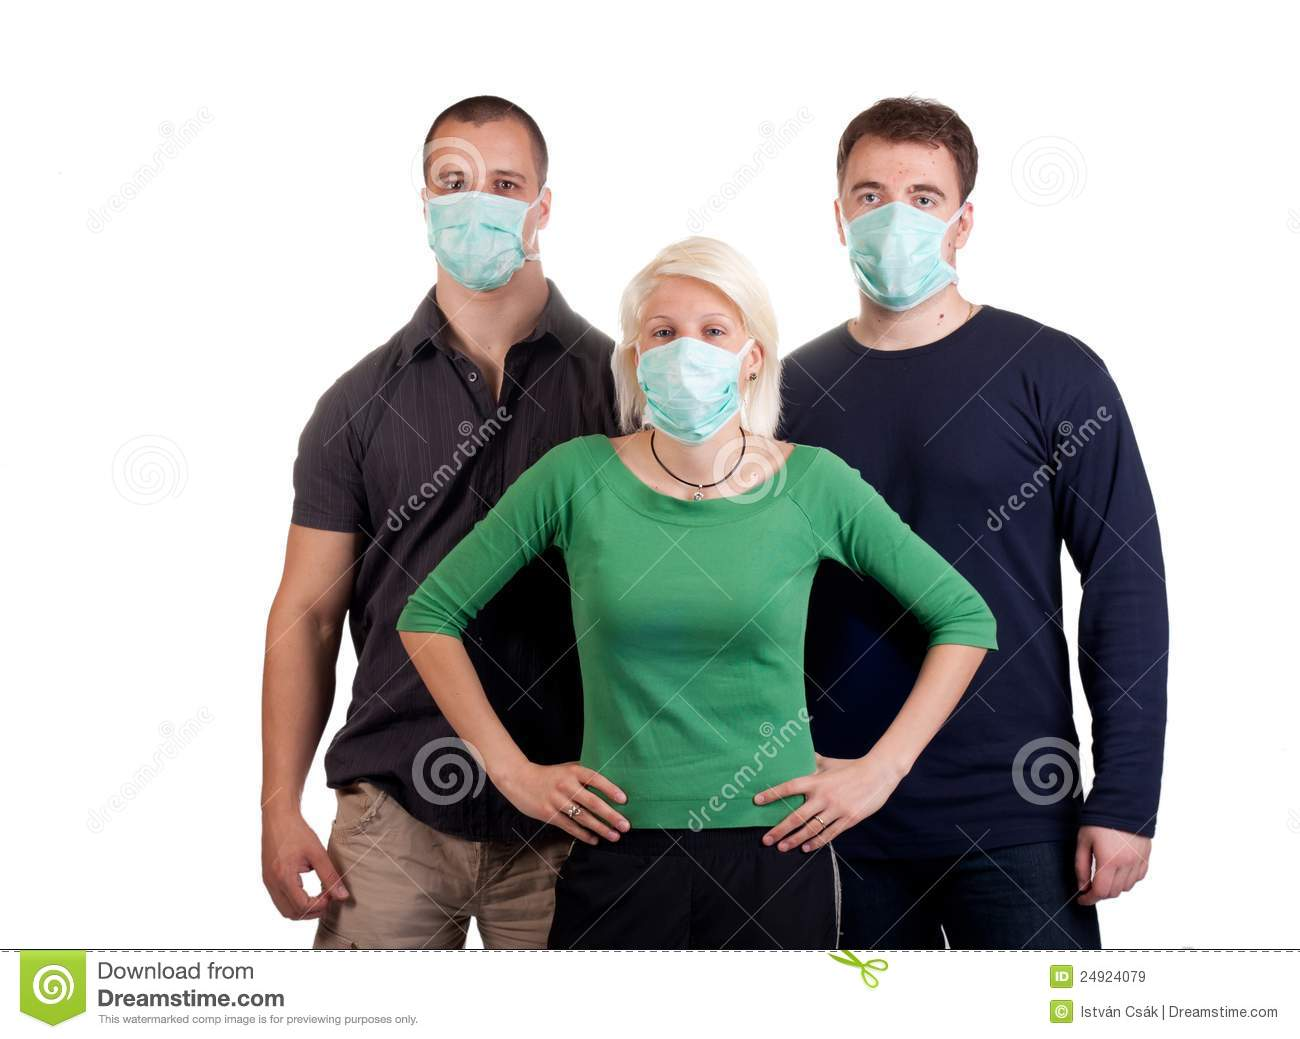mask: (845, 200, 959, 315), (422, 194, 533, 296), (639, 340, 740, 450)
